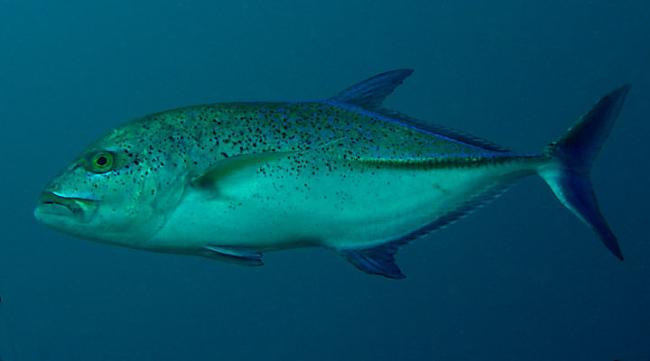fish: (32, 68, 632, 281)
